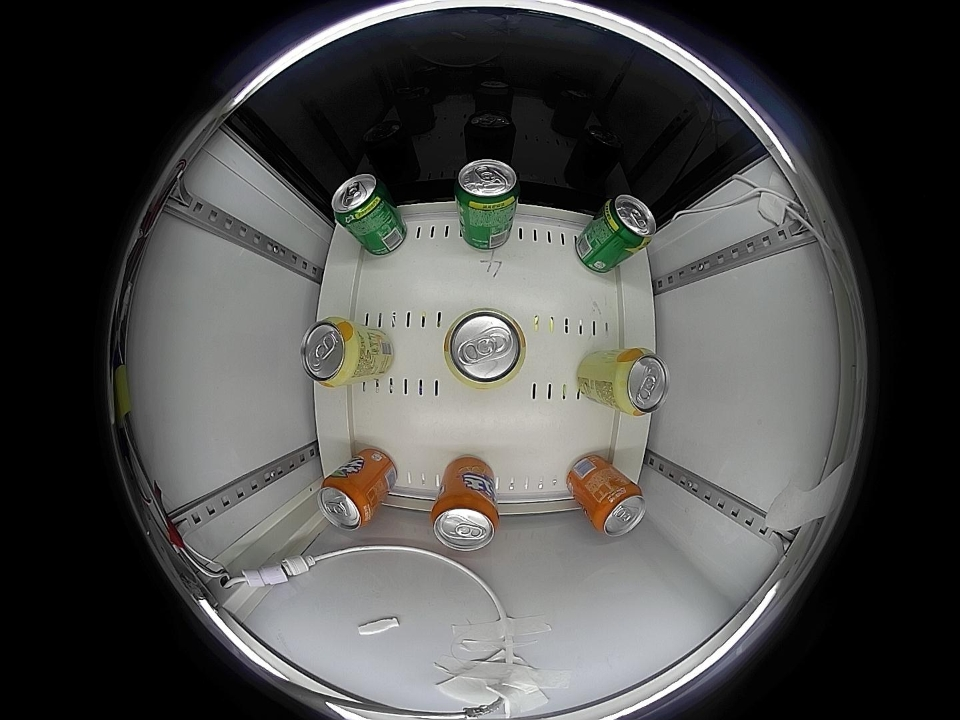fenda: (431, 493, 499, 552), (317, 475, 375, 531), (591, 483, 647, 537)
mangguoxiaolao: (442, 308, 528, 389), (300, 317, 361, 387), (610, 349, 670, 417)
xuebi2: (454, 159, 520, 216), (596, 194, 657, 249), (332, 174, 390, 228)
